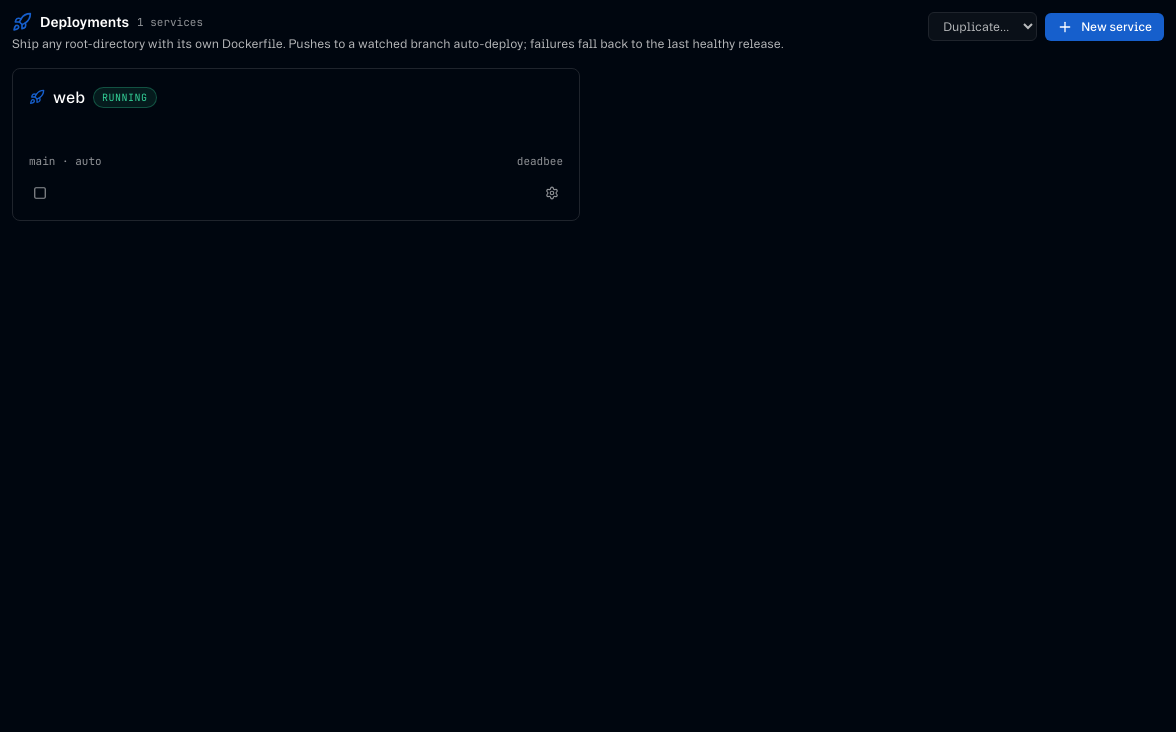
Test: DeploymentsPage › blares a failure banner and still shows the serving release
This screenshot has width=1176, height=732.
Click the element with test id "service-card-web" at (296, 144), box [12, 68, 580, 220]
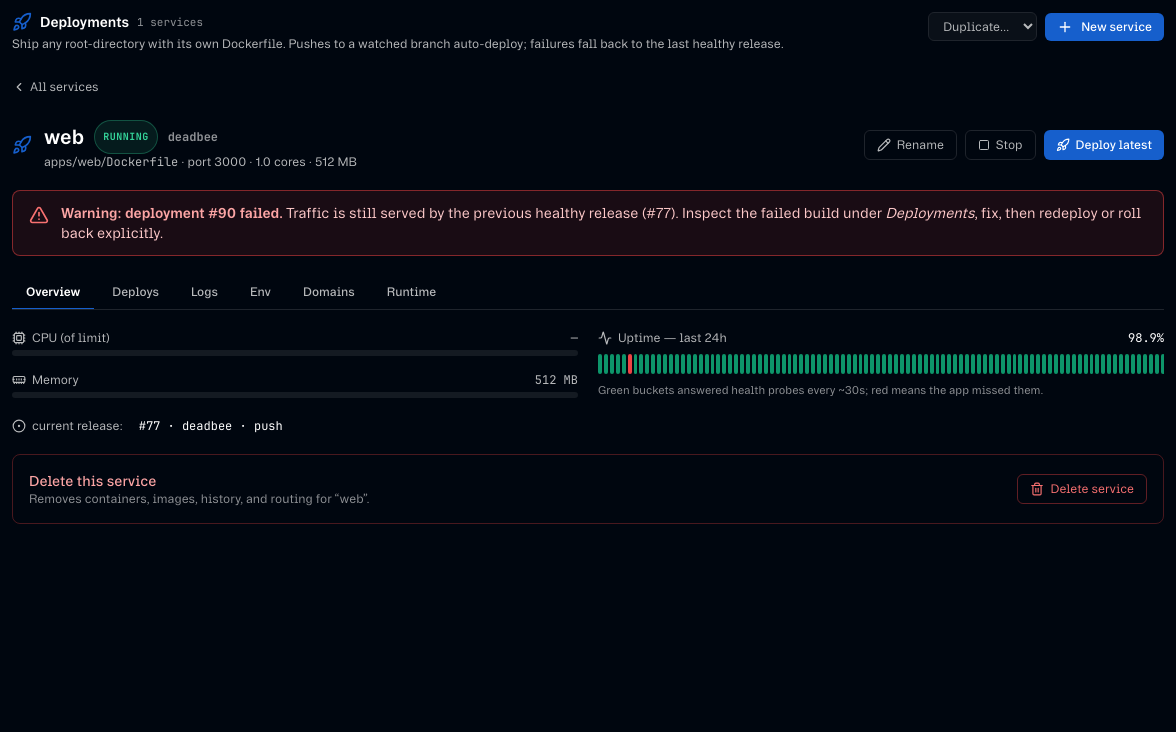
Result: the message with test id "failure-banner" shows "deployment #90 failed" at [12, 190, 1164, 256]
Result: the message with test id "failure-banner" shows "#77" at [12, 190, 1164, 256]
